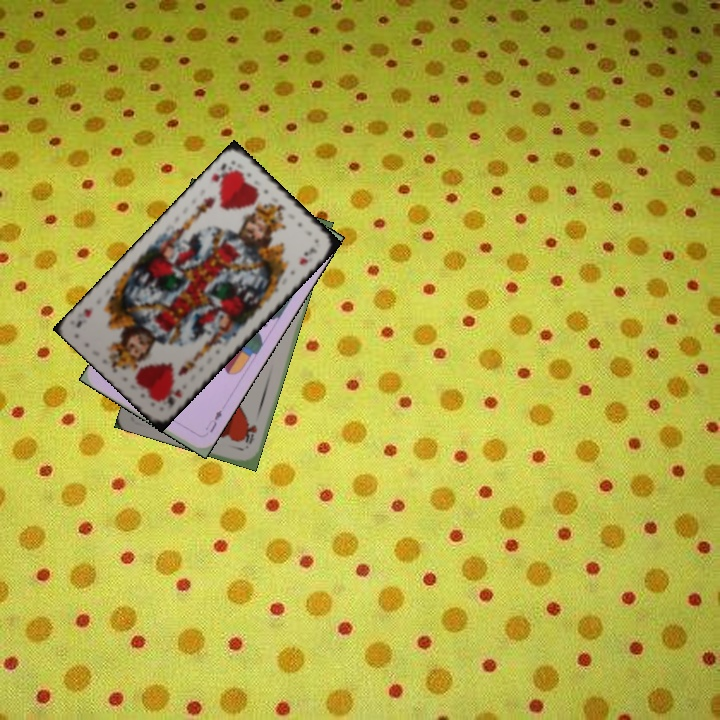EU: (201, 406, 225, 435)
HK: (207, 159, 238, 189), (162, 384, 184, 410)
HO: (241, 419, 260, 447)
